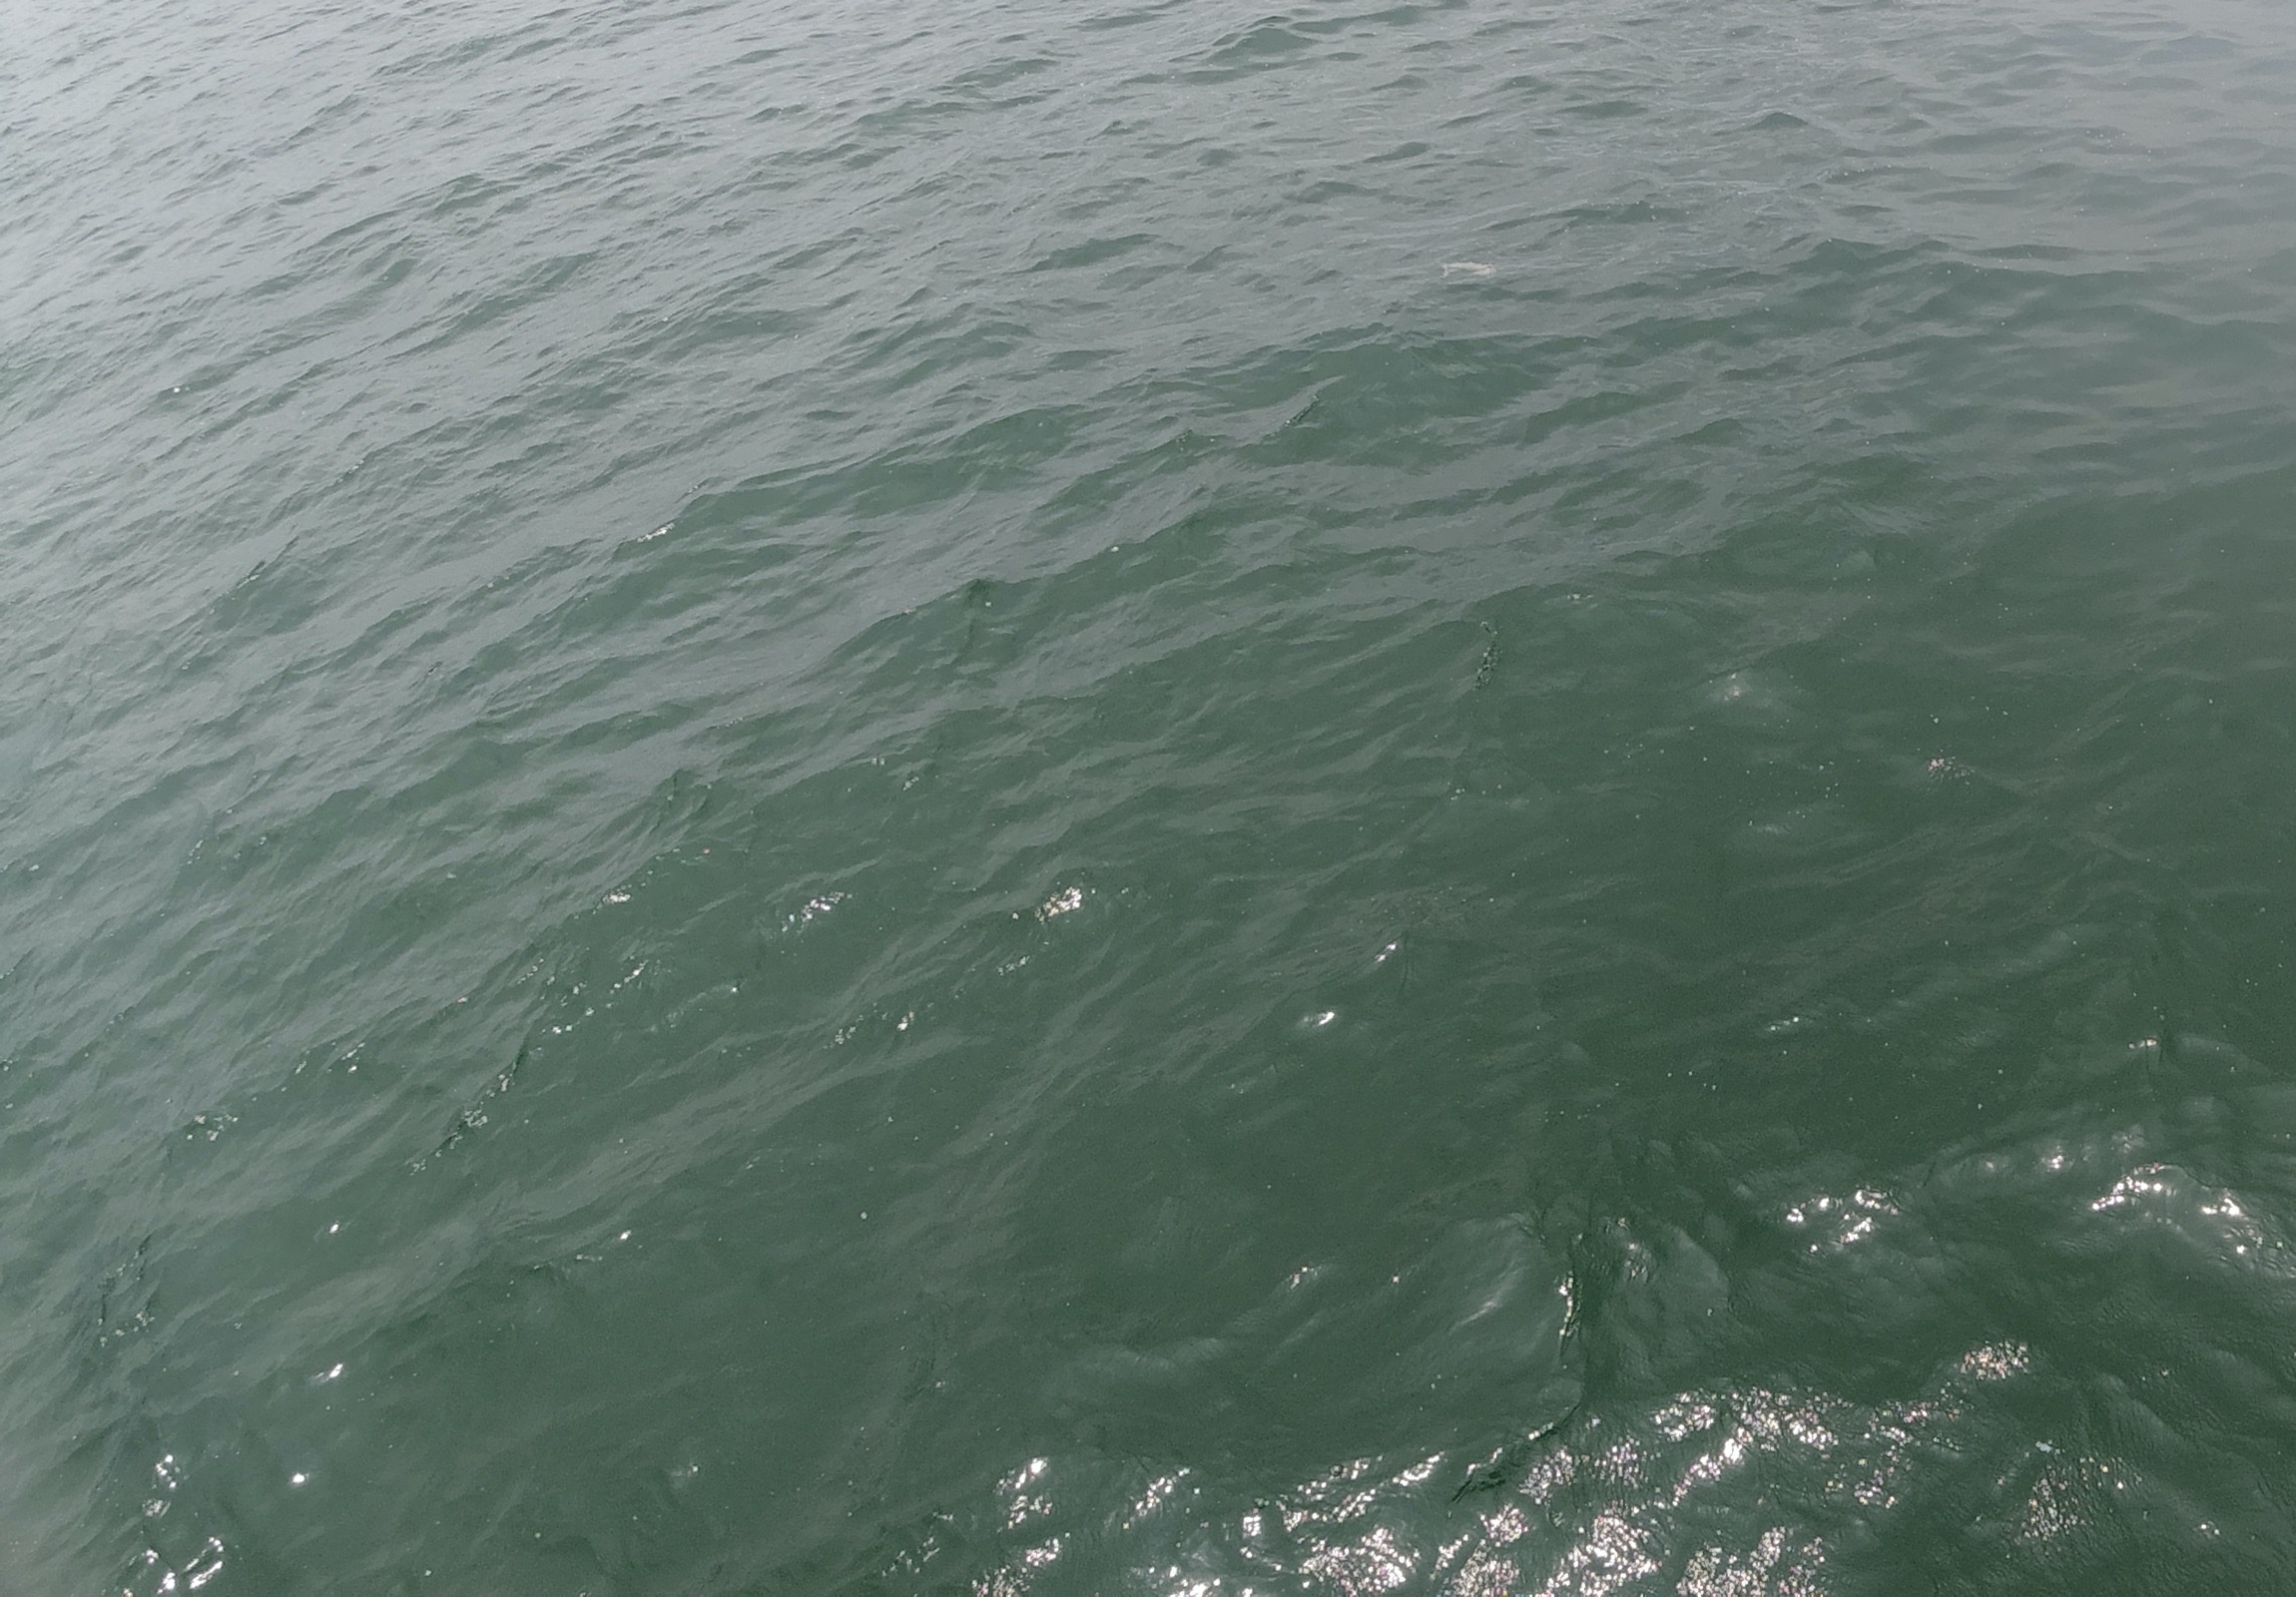plastic: (1415, 250, 1513, 290)
